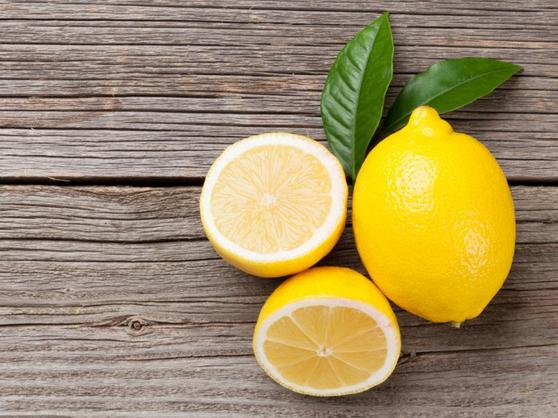lemon: (355, 108, 515, 326)
